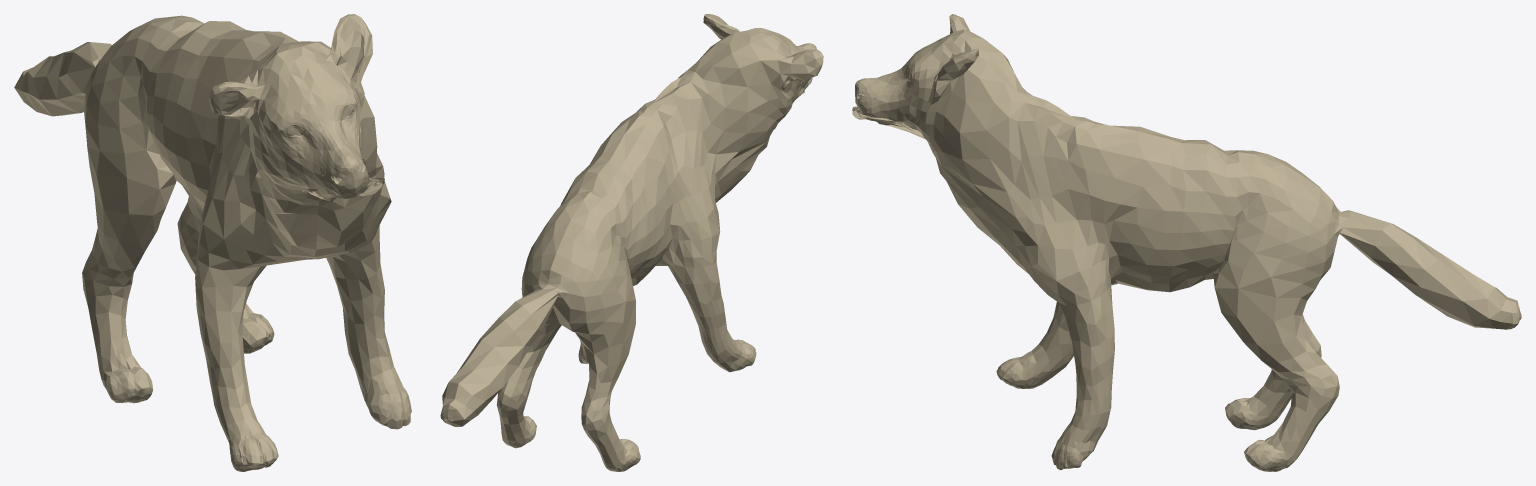
3 views of the same model, side by side, from view 1: azimuth 30°, elevation 25°; view 2: azimuth 150°, elevation 25°; view 3: azimuth 270°, elevation 25° (orthographic). The views are drawn at different scales.
Visible parts, largest first — view 1: world; view 2: world; view 3: world.
Boxes of the visible parts, x1,y1,x2,y2 form: world: (14,14,411,471); world: (440,14,823,471); world: (852,14,1521,471).
Size of the model in its own units: 0.4752 by 0.8411 by 1.28.
